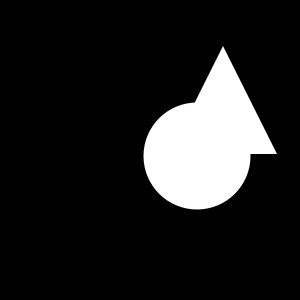rectangle: (143, 102, 250, 210)
triangle: (169, 46, 277, 154)
